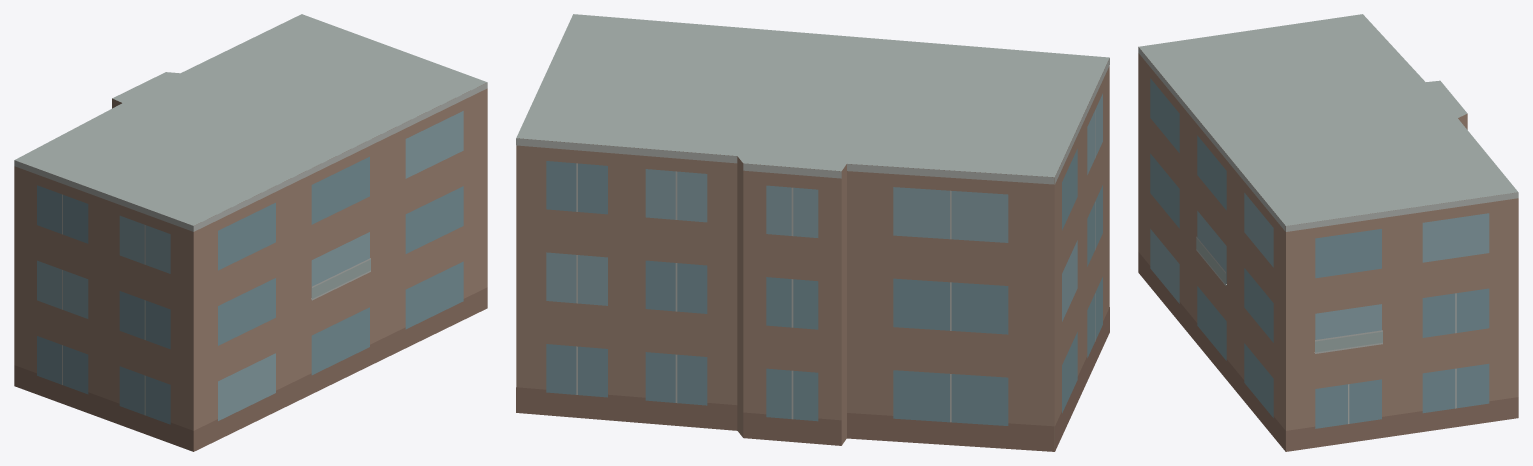
Rendered from survey-upis-32703730.glb.
The picture shows the model from 3 angles, left to right: view 1: azimuth 30°, elevation 25°; view 2: azimuth 150°, elevation 25°; view 3: azimuth 270°, elevation 25°; orthographic projection. The views are drawn at different scales.
Visible parts, largest first — view 1: survey-upis-32703730.tmp; view 2: survey-upis-32703730.tmp; view 3: survey-upis-32703730.tmp.
Boxes of the visible parts, x1=… form: survey-upis-32703730.tmp: x1=14, y1=14, x2=487, y2=451; survey-upis-32703730.tmp: x1=516, y1=14, x2=1109, y2=451; survey-upis-32703730.tmp: x1=1138, y1=14, x2=1518, y2=451.
Bounding box in the file's own units: 18.43 × 9.15 × 13.96.
